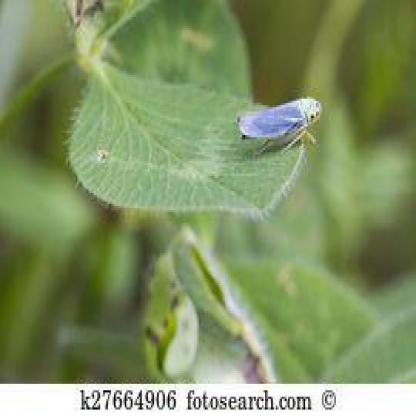Green-Leafhopper: (235, 97, 326, 156)
